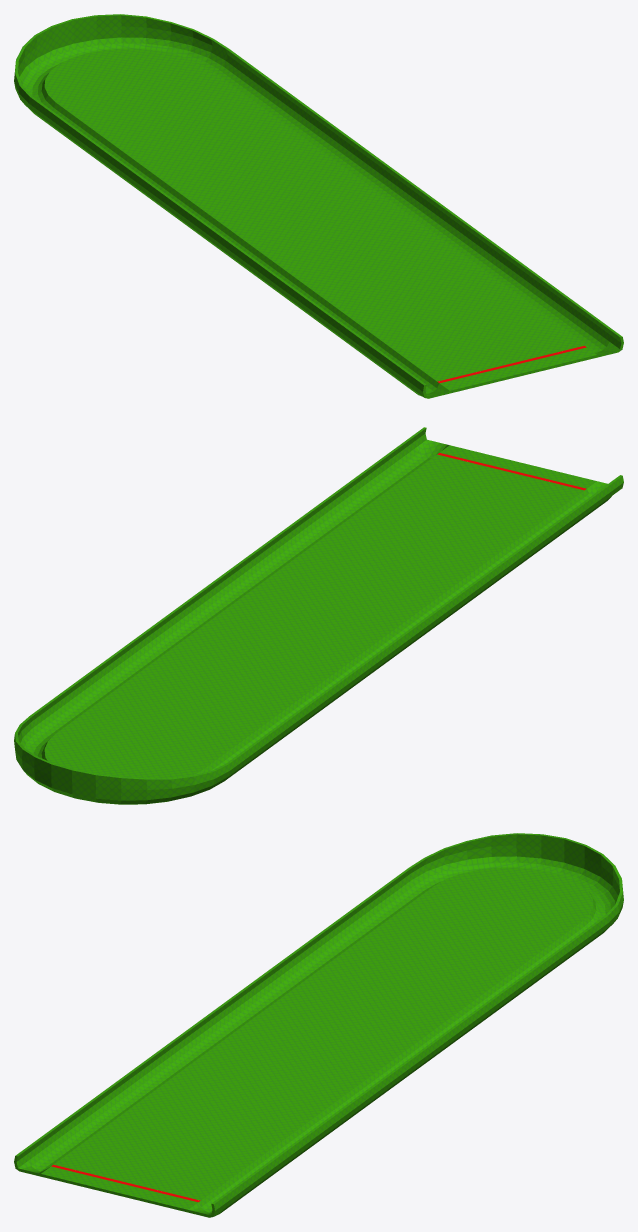
The model's file is lane.glb.
3 views of the same model, one above another, from view 1: azimuth 30°, elevation 25°; view 2: azimuth 150°, elevation 25°; view 3: azimuth 330°, elevation 25° (orthographic).
Parts seen in each view (by area): view 1: lane; view 2: lane; view 3: lane.
Part boxes in pixels (x1=…): lane: x1=14, y1=14, x2=623, y2=398; lane: x1=14, y1=427, x2=623, y2=804; lane: x1=14, y1=833, x2=623, y2=1217.
Size of the model in its own units: 2.27 by 0.365 by 8.84.
Materials: 2 (2 with a texture image).
